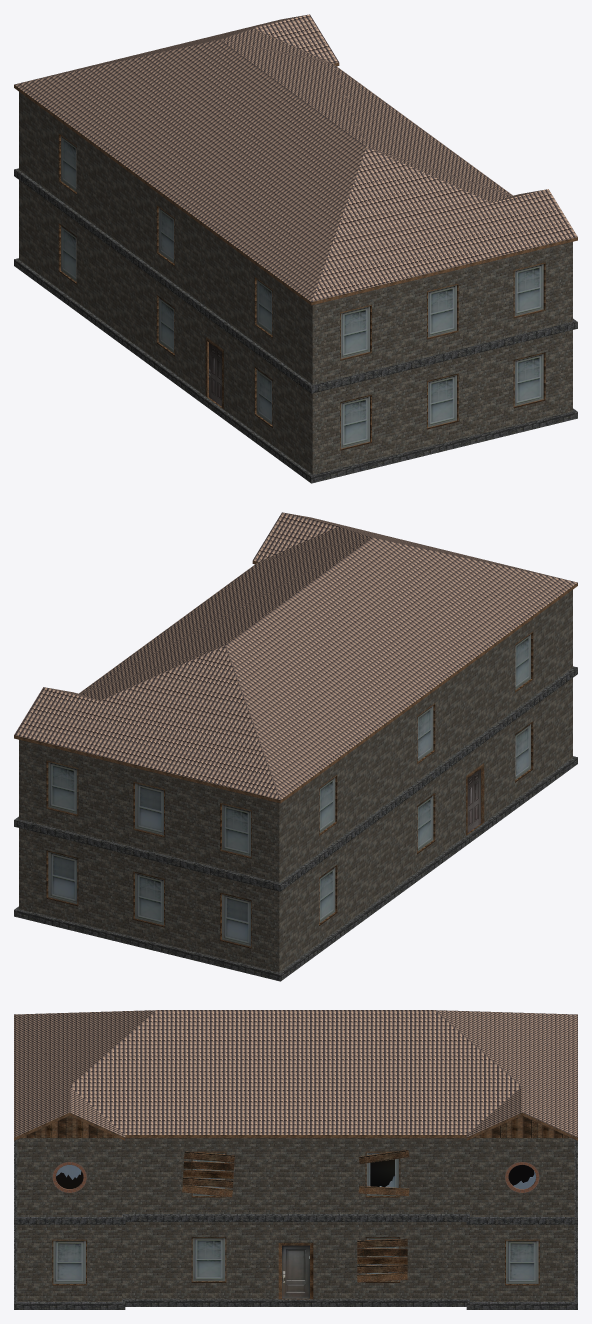
The model's file is mantion.glb.
3 views of the same model, one above another, from view 1: azimuth 30°, elevation 25°; view 2: azimuth 150°, elevation 25°; view 3: azimuth 270°, elevation 25° (orthographic). The views are drawn at different scales.
Visible parts, largest first — view 1: building_004; view 2: building_004; view 3: building_004, Planks.001, Planks, Plane, Planks.002.
Part boxes in pixels (x1,y1,x2,y2): building_004: (14,14,577,483); building_004: (14,512,577,981); building_004: (14,1010,577,1309); Planks.001: (182,1151,234,1197); Planks: (357,1239,407,1282); Plane: (56,1154,534,1188); Planks.002: (358,1150,409,1195).
Bounding box in the file's own units: 8.39 × 7.5 × 16.2.
Materials: 7 (7 with a texture image).
